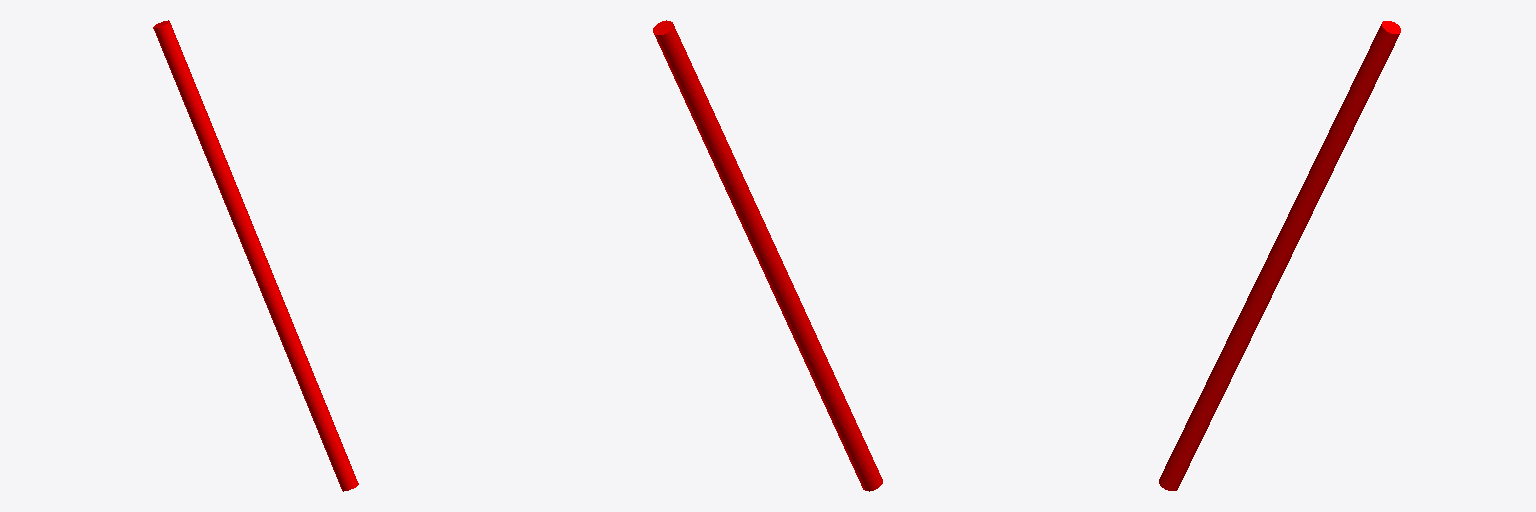
The robot description file, URDF, robot "tree_5.urdf":
<?xml version='1.0' encoding='utf-8'?>
<robot name="tree_5.urdf">
  <link name="branch_0">
    <inertial>
      <origin xyz="0.0 0.0 0.0" rpy="0.0 -0.0 0.0" />
      <mass value="1.0" />
      <inertia ixx="1.0" ixy="0.0" ixz="0.0" iyy="1.0" iyz="0.0" izz="1.0" />
    </inertial>
    <visual name="branch_0_visual">
      <geometry>
        <cylinder radius="0.06719326021277228" length="3.8524413464474616" />
      </geometry>
      <material name="semantic_material" />
      <origin xyz="0.3366247534542167 0.7088063392416099 1.7591484959398047" rpy="-8.326672684688674e-17 0.41956983753053695 1.127415053202093" />
    </visual>
    <collision name="branch_0_collision">
      <geometry>
        <cylinder radius="0.06719326021277228" length="3.8524413464474616" />
      </geometry>
      <origin xyz="0.3366247534542167 0.7088063392416099 1.7591484959398047" rpy="-8.326672684688674e-17 0.41956983753053695 1.127415053202093" />
    </collision>
  </link>
  <material name="semantic_material">
    <color rgba="1. 0. 0. 1." />
  </material>
</robot>

--- Facts derived from the render (not from the file) ---
The picture shows the robot from 3 angles, left to right: view 1: azimuth 90°, elevation 25°; view 2: azimuth 150°, elevation 25°; view 3: azimuth 270°, elevation 25°; orthographic projection.
Robot: tree_5.urdf — 1 links, 0 joints (none); root link branch_0; default pose: every joint at zero.
Links seen in each view (by area): view 1: branch_0; view 2: branch_0; view 3: branch_0.
Boxes of the visible links, x1,y1,x2,y2 form: branch_0: [153, 20, 358, 491]; branch_0: [653, 20, 882, 491]; branch_0: [1159, 21, 1400, 490].
Size in the robot's own frame: 0.8055 by 1.54 by 3.57 metres.
Geometry: primitives only (box / cylinder / sphere), no mesh files.